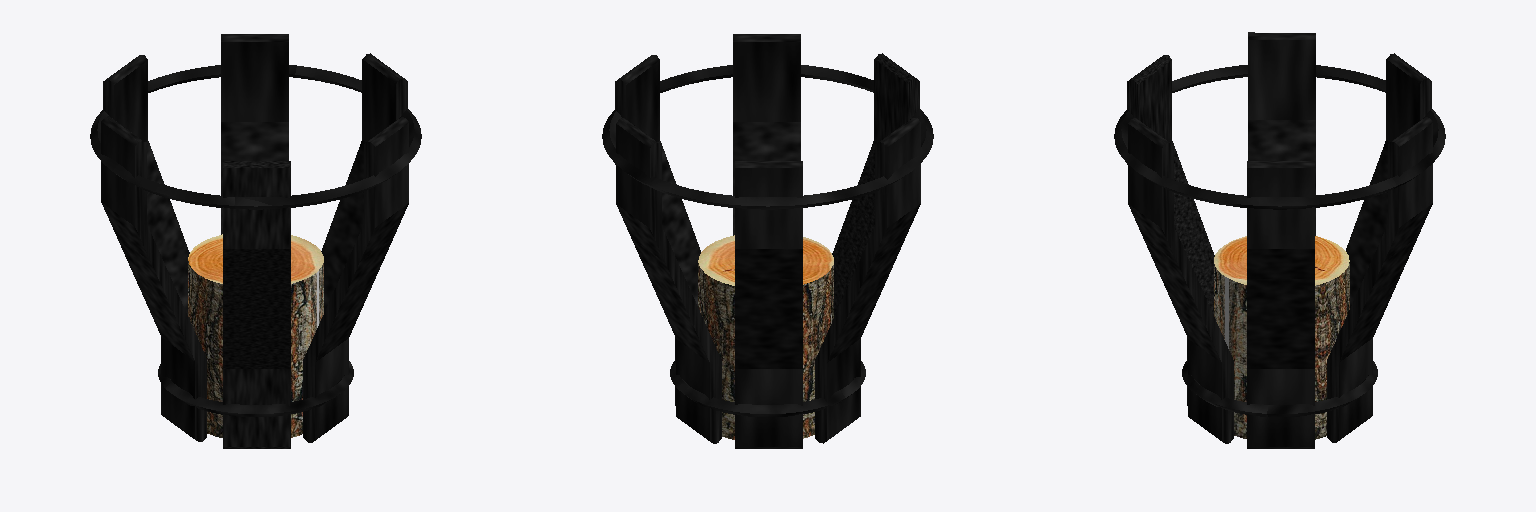
3 views of the same model, side by side, from view 1: azimuth 30°, elevation 25°; view 2: azimuth 150°, elevation 25°; view 3: azimuth 270°, elevation 25° (orthographic).
Visible parts, largest first — view 1: Cube.001, Cube, Cube.002, Cylinder, Cube.004, Torus.001, Cube.003, Cube.005, Torus; view 2: Cube.005, Cube, Cube.004, Cube.002, Cylinder, Torus.001, Cube.001, Cube.003, Torus; view 3: Cube.003, Cube.002, Cube.004, Cube, Cylinder, Torus.001, Cube.005, Cube.001, Torus.
Part boxes in pixels (left/top/right/bottom): Cube.001: left=223, top=161, right=290, bottom=448; Cube: left=101, top=116, right=206, bottom=441; Cube.002: left=303, top=117, right=408, bottom=442; Cylinder: left=188, top=234, right=323, bottom=437; Cube.004: left=221, top=34, right=288, bottom=234; Torus.001: left=90, top=65, right=421, bottom=209; Cube.003: left=321, top=53, right=407, bottom=311; Cube.005: left=103, top=55, right=189, bottom=314; Torus: left=158, top=361, right=353, bottom=416; Cube.005: left=735, top=161, right=802, bottom=448; Cube: left=815, top=118, right=920, bottom=443; Cube.004: left=616, top=118, right=721, bottom=443; Cube.002: left=733, top=34, right=800, bottom=235; Cylinder: left=698, top=235, right=833, bottom=439; Torus.001: left=602, top=65, right=933, bottom=209; Cube.001: left=832, top=53, right=919, bottom=316; Cube.003: left=615, top=55, right=700, bottom=405; Torus: left=670, top=361, right=865, bottom=416; Cube.003: left=1247, top=161, right=1314, bottom=448; Cube.002: left=1128, top=118, right=1233, bottom=443; Cube.004: left=1327, top=117, right=1432, bottom=442; Cube: left=1248, top=32, right=1315, bottom=235; Cylinder: left=1214, top=236, right=1349, bottom=439; Torus.001: left=1114, top=65, right=1445, bottom=209; Cube.005: left=1346, top=53, right=1431, bottom=307; Cube.001: left=1127, top=55, right=1214, bottom=405; Torus: left=1182, top=361, right=1377, bottom=416.
Bounding box in the file's own units: 0.4876 × 0.5138 × 0.4876.
Materials: 3 (2 with a texture image).